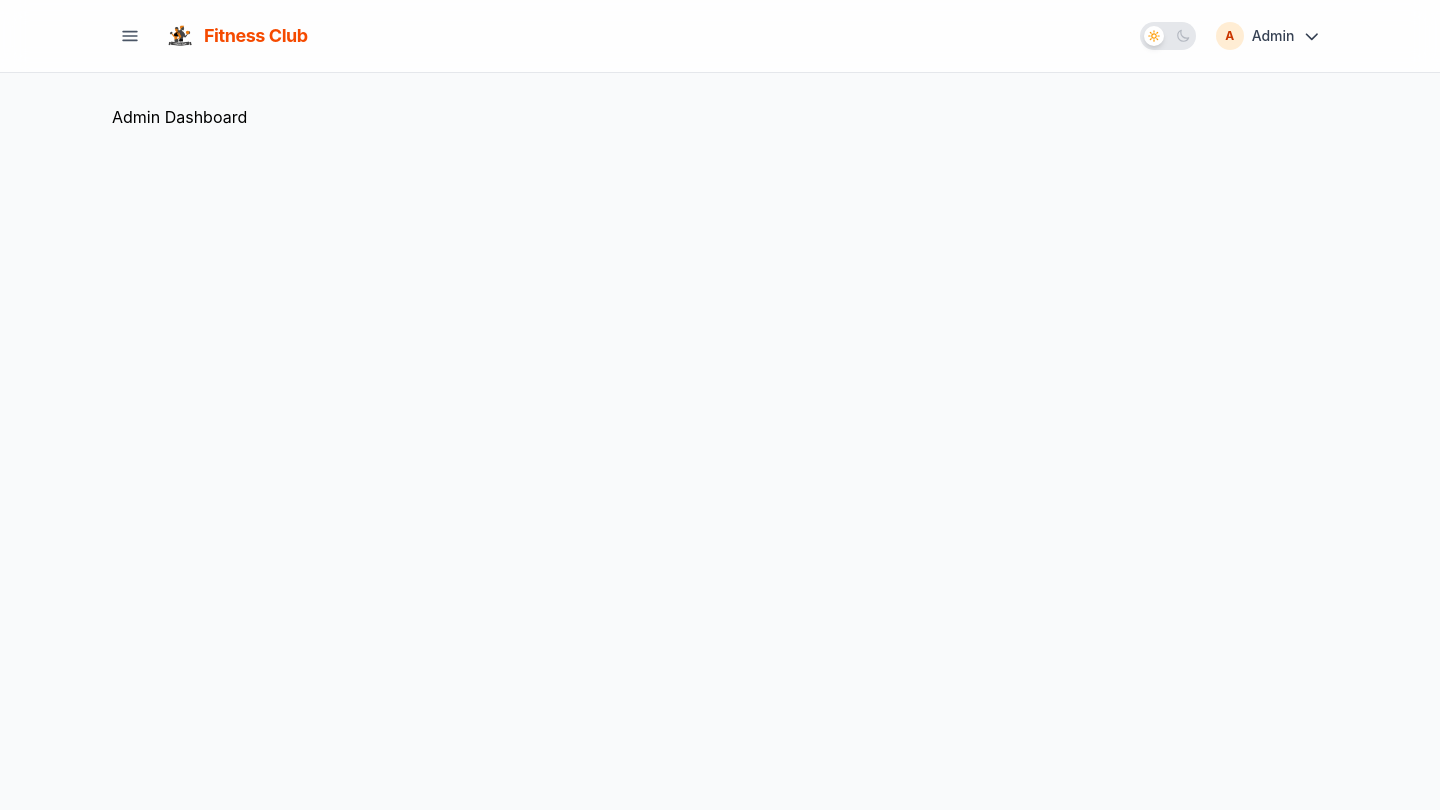
Test: Layout › renders admin sidebar items
Click the button named "Open menu".
click(130, 36)  # box [112,18,148,54]
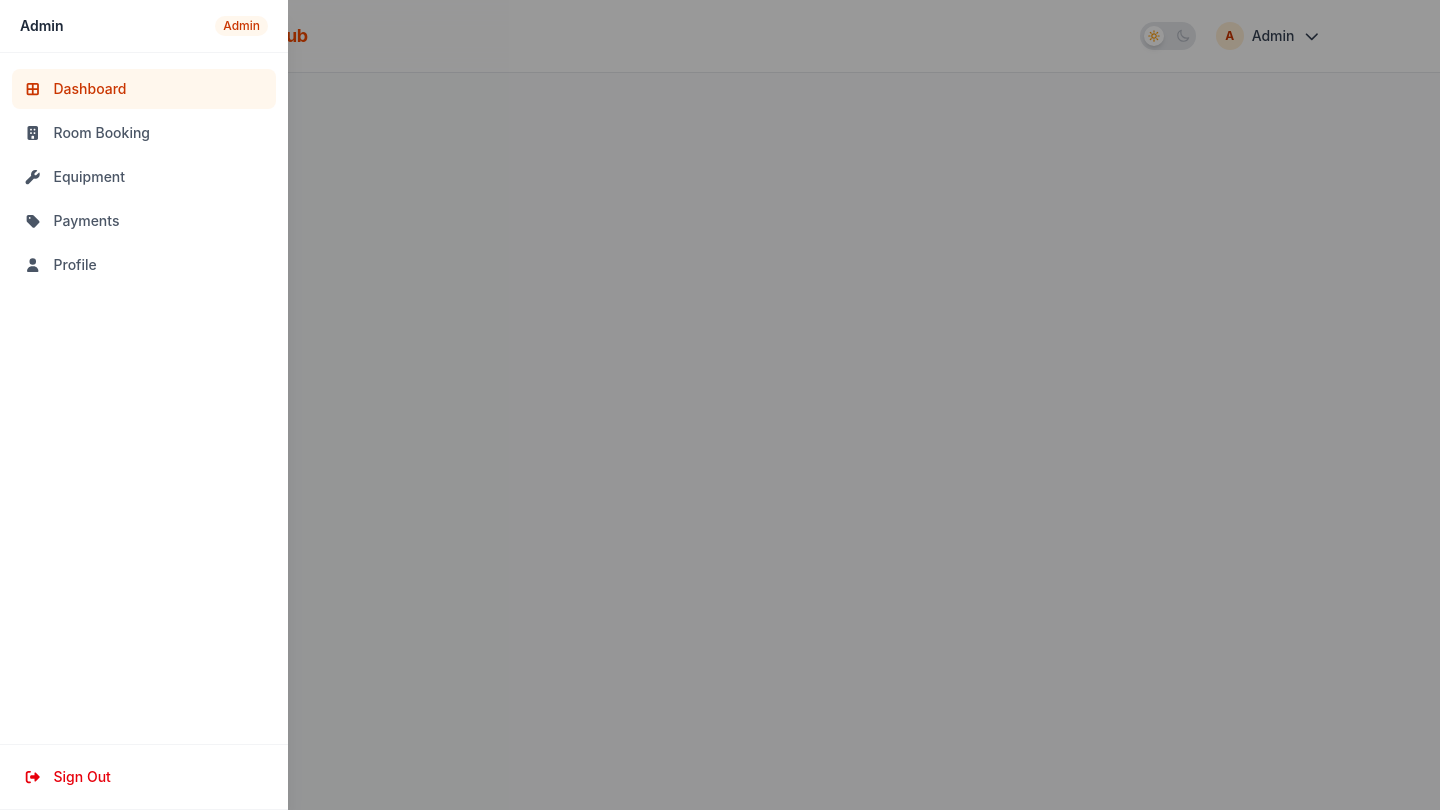
Expected: the link "Room Booking" is shown, [24,124,150,141]
Expected: the link "Equipment" is shown, [24,168,125,185]
Expected: the link "Payments" is shown, [24,212,120,229]
